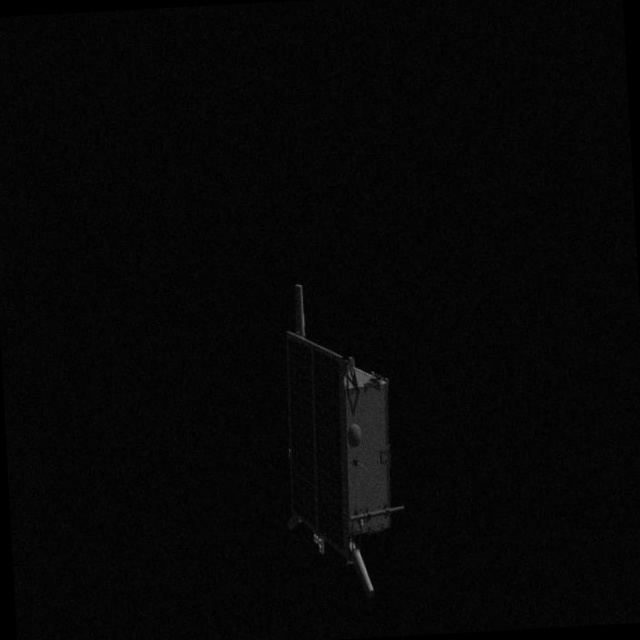satellite: (247, 264, 405, 605)
